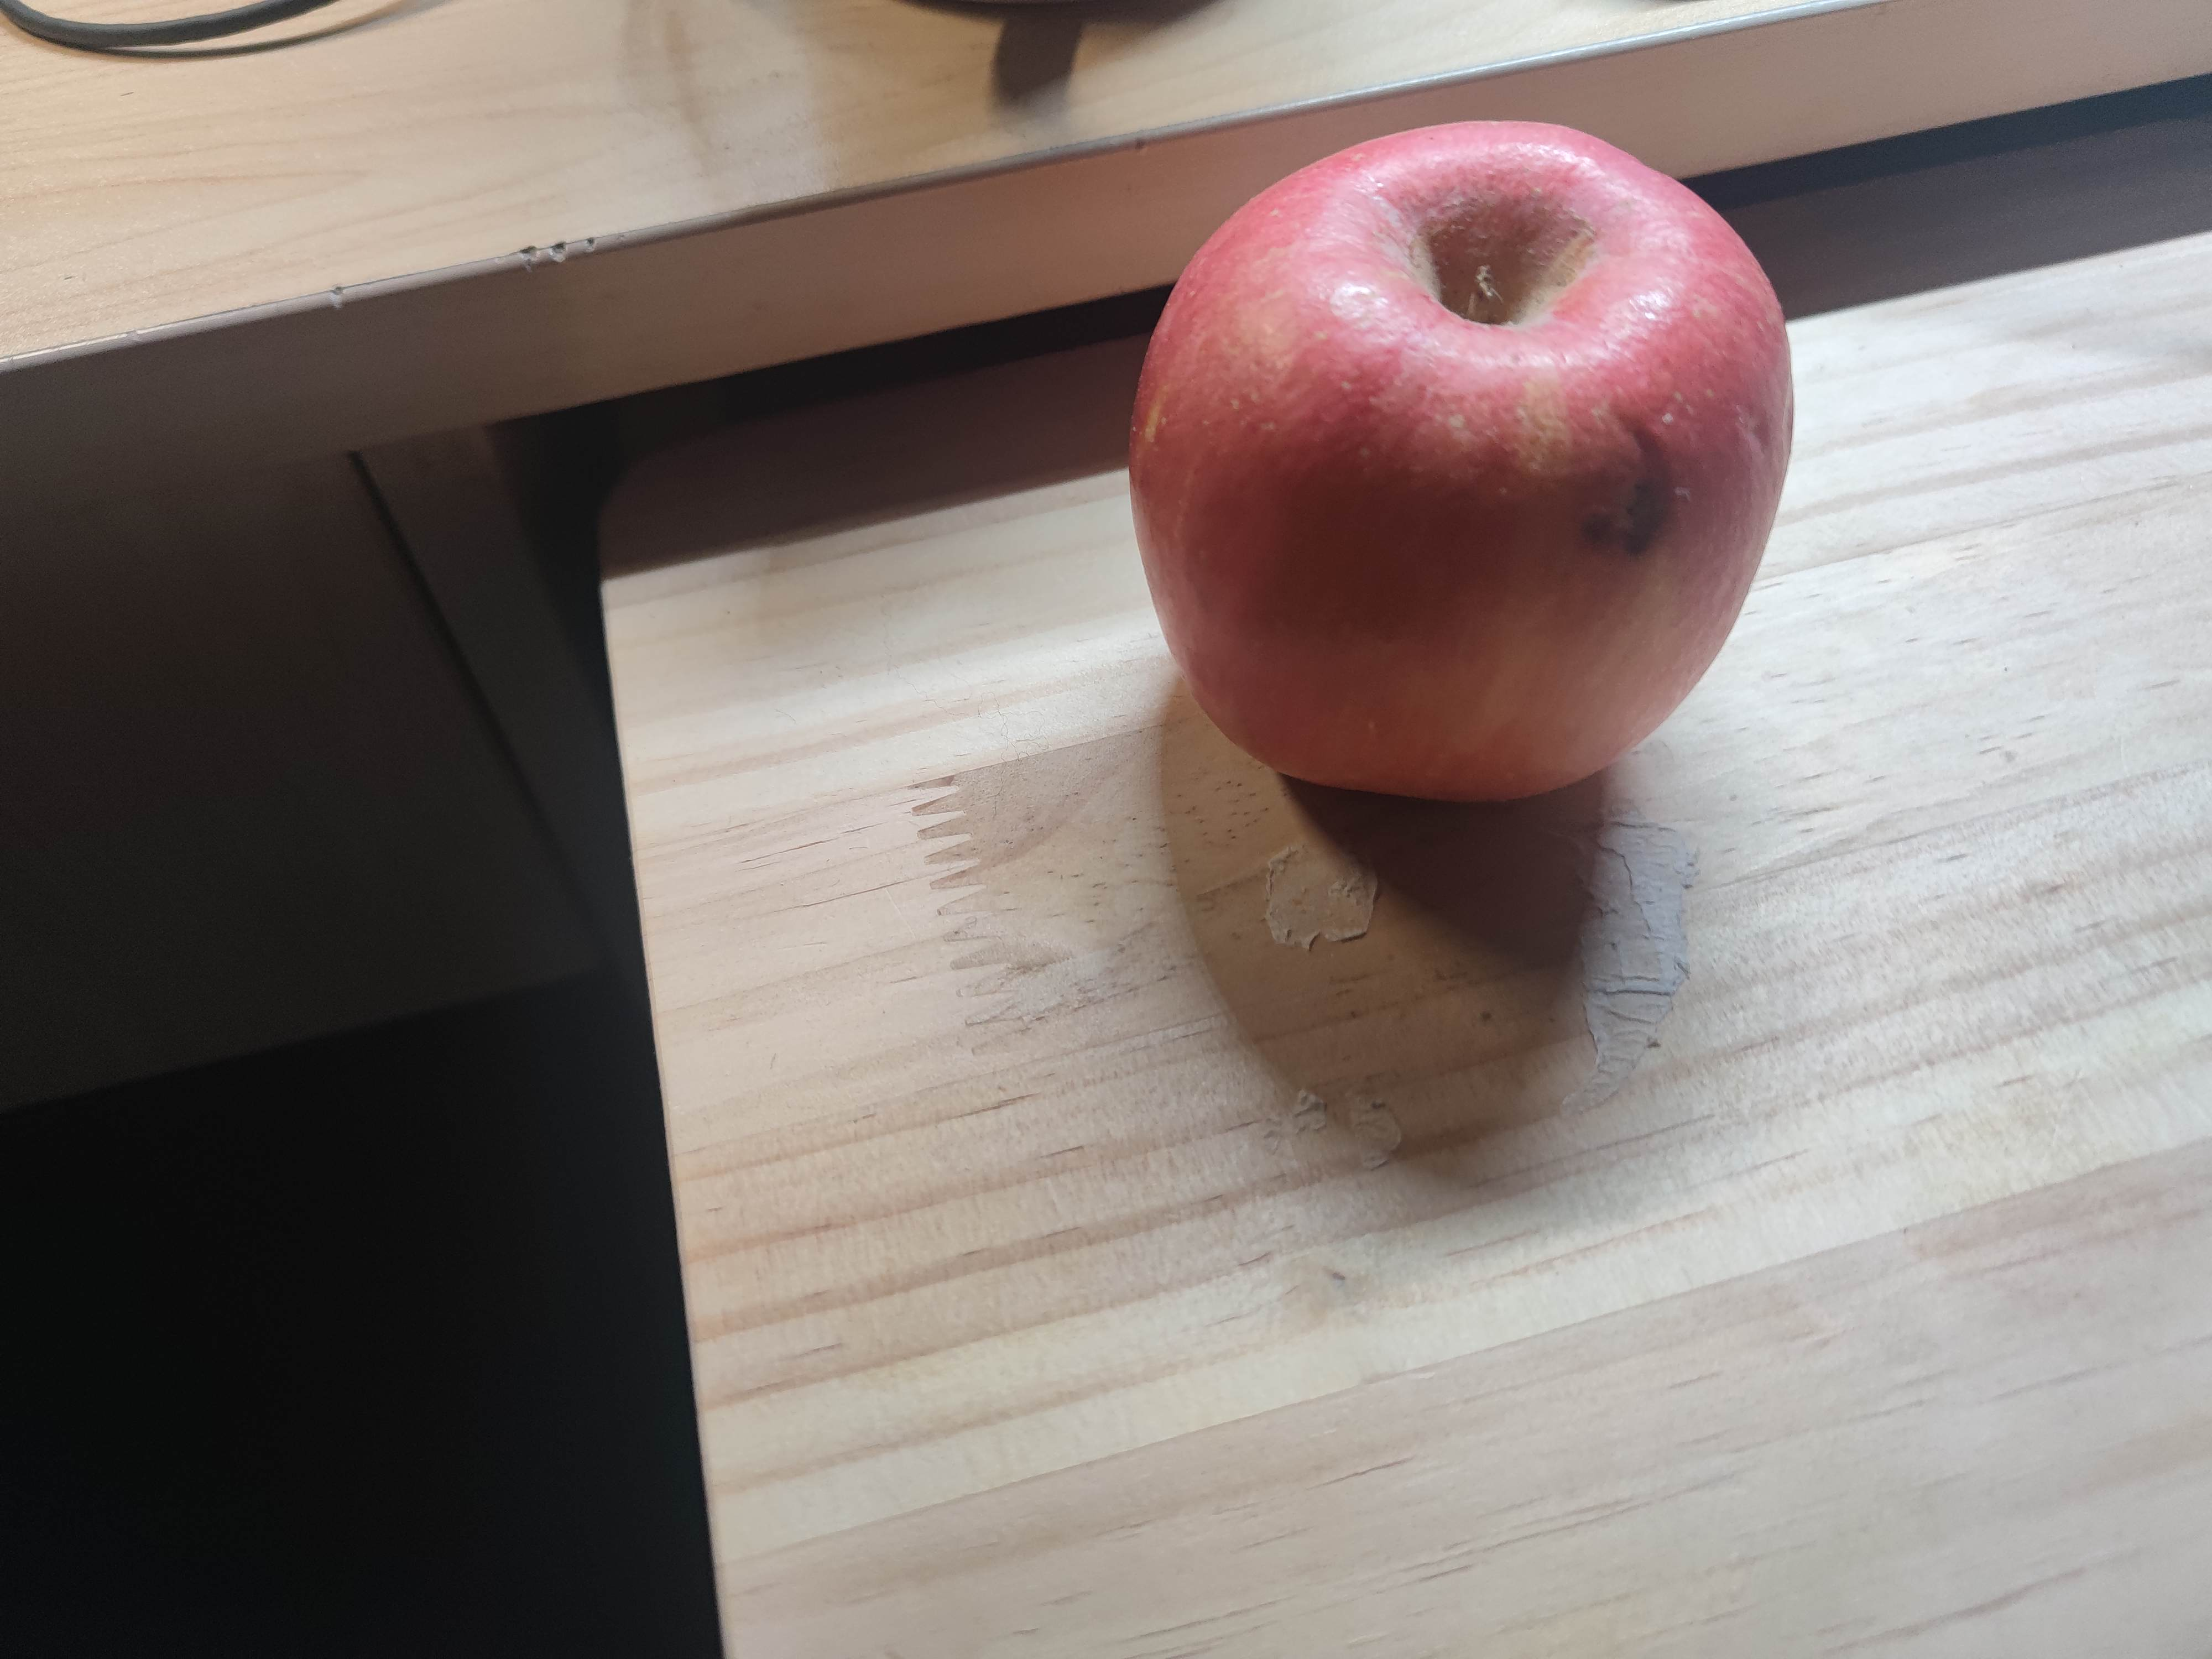apple: (1116, 106, 1794, 812)
